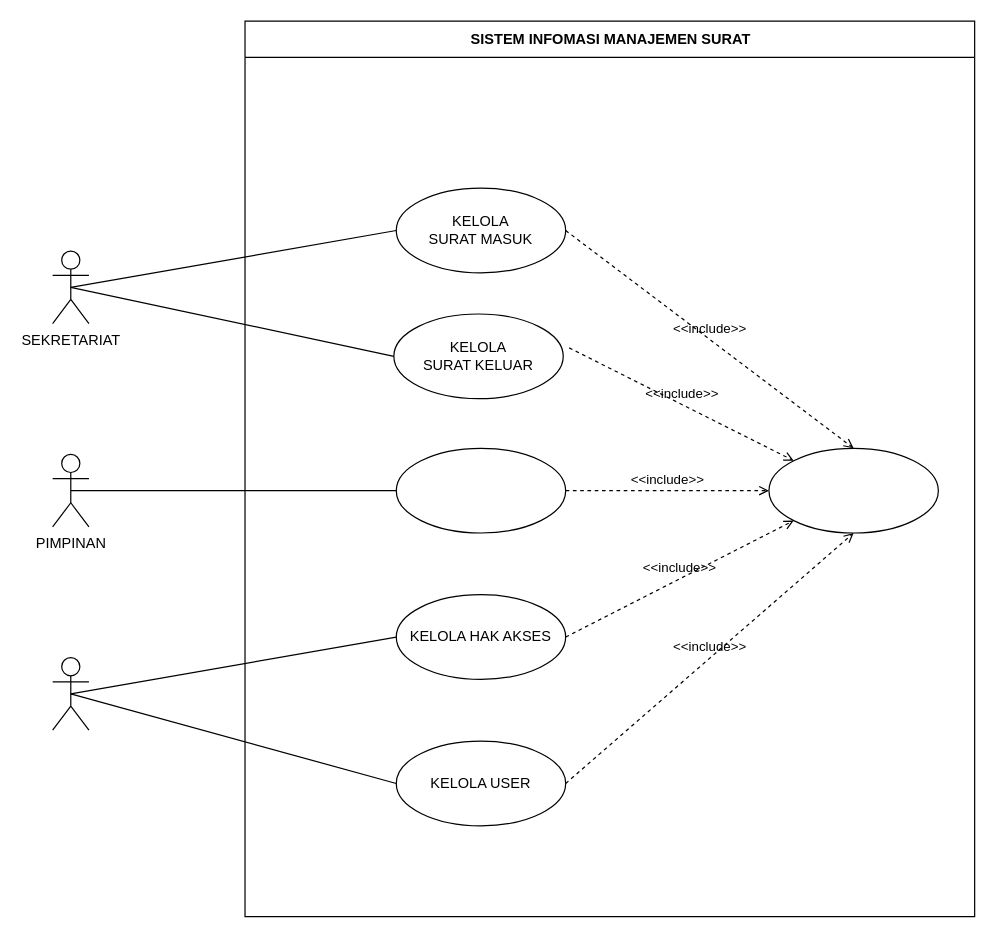
The diagram is 996 pixels wide and 938 high, and some of its shapes have lost their labels. The shapes that lost their labels are listed below. From the top down, each one's centre as x and y in pixels, then its label:
At pixel 480 490: "DISPOSISI SURAT MASUK".
At pixel 853 490: "LOGIN".
At pixel 70 693: "ADMIN".
